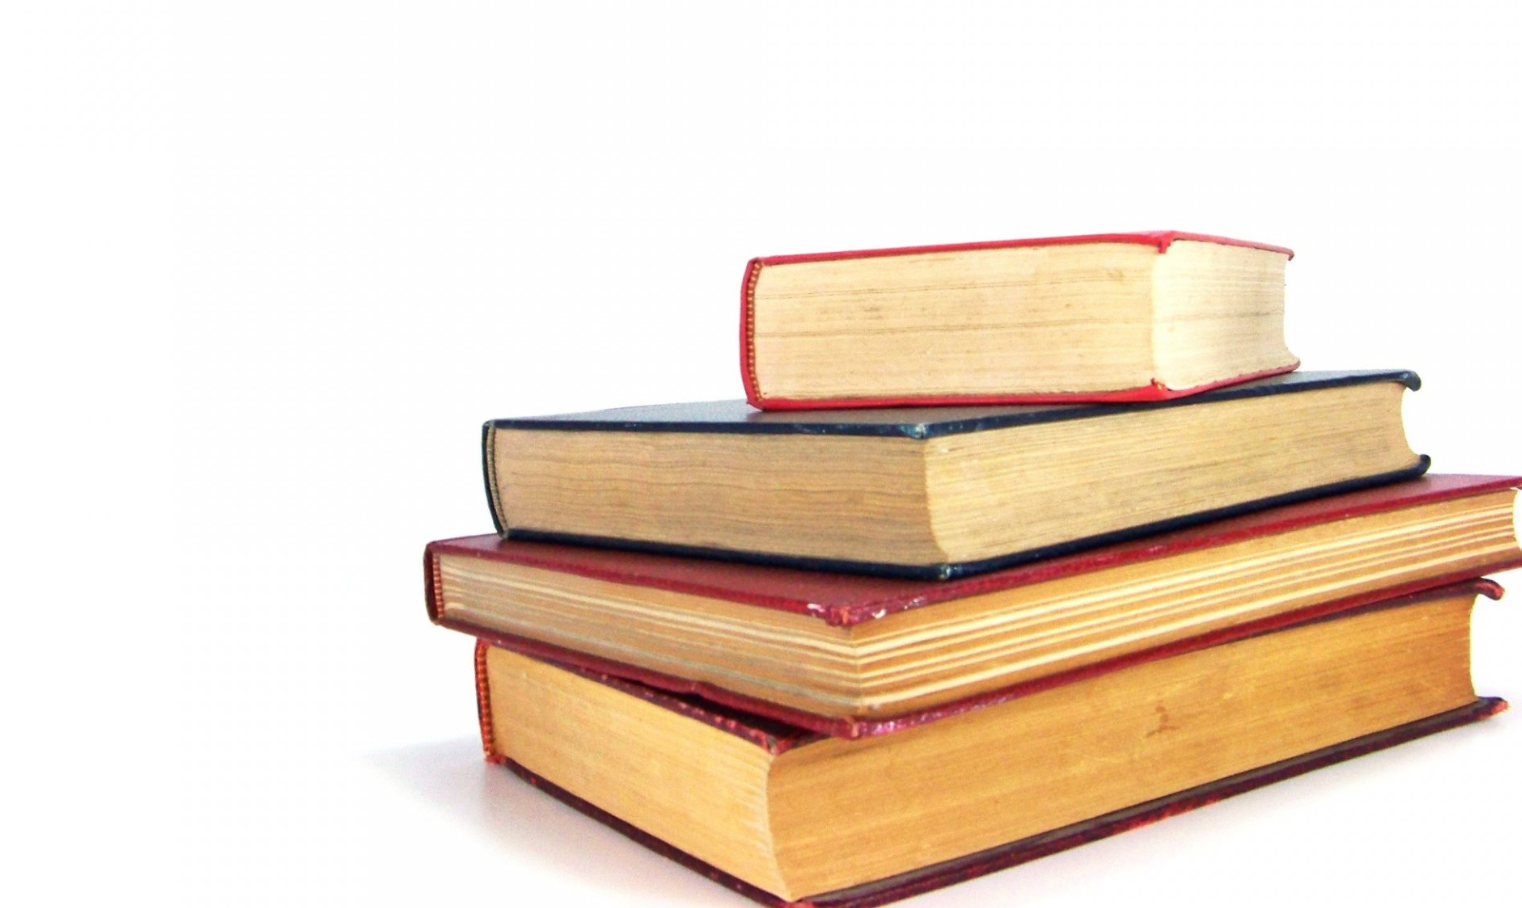book: (410, 599, 1436, 908), (409, 486, 1522, 732), (478, 370, 1439, 567), (736, 226, 1300, 395)
